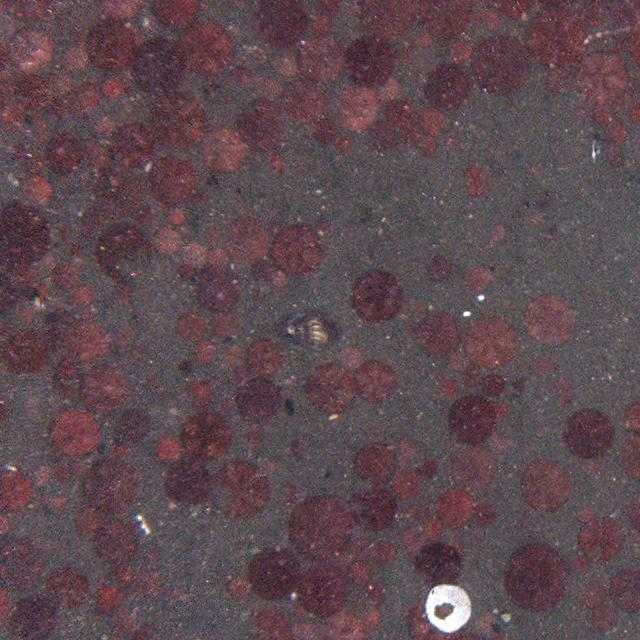whelk: (276, 311, 342, 351)
